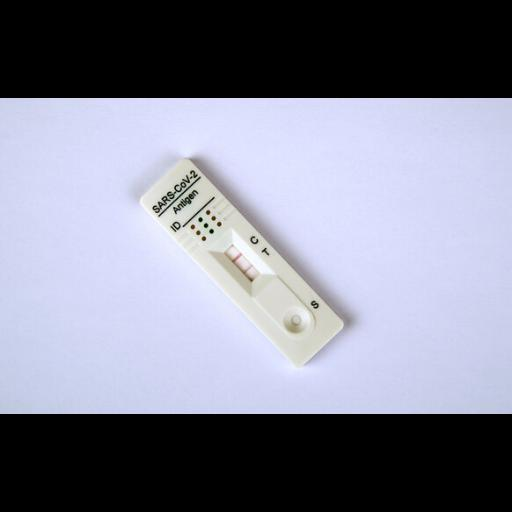Pos: (139, 155, 345, 369)
